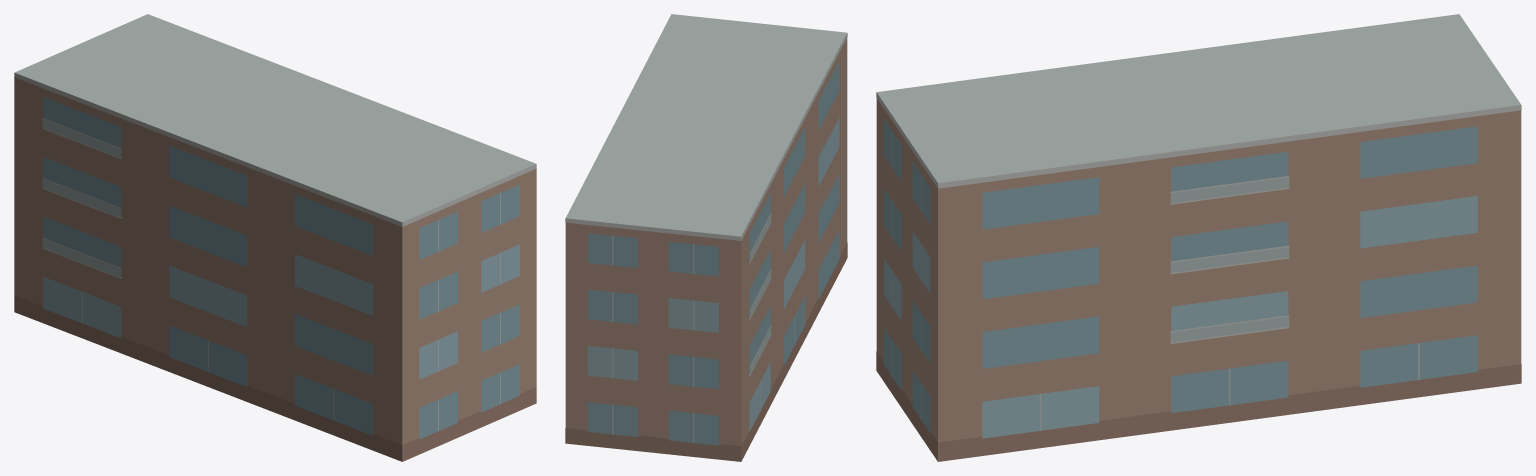
File: survey-upis-32621107.glb
3 renders of one model, left to right at view 1: azimuth 30°, elevation 25°; view 2: azimuth 150°, elevation 25°; view 3: azimuth 270°, elevation 25°, orthographic. The views are drawn at different scales.
Parts seen in each view (by area): view 1: survey-upis-32621107.tmp; view 2: survey-upis-32621107.tmp; view 3: survey-upis-32621107.tmp.
Boxes of the visible parts, x1,y1,x2,y2 form: survey-upis-32621107.tmp: [14, 14, 536, 461]; survey-upis-32621107.tmp: [565, 14, 847, 461]; survey-upis-32621107.tmp: [876, 14, 1521, 461].
Size of the model in its own units: 16.57 by 12.7 by 26.66.
